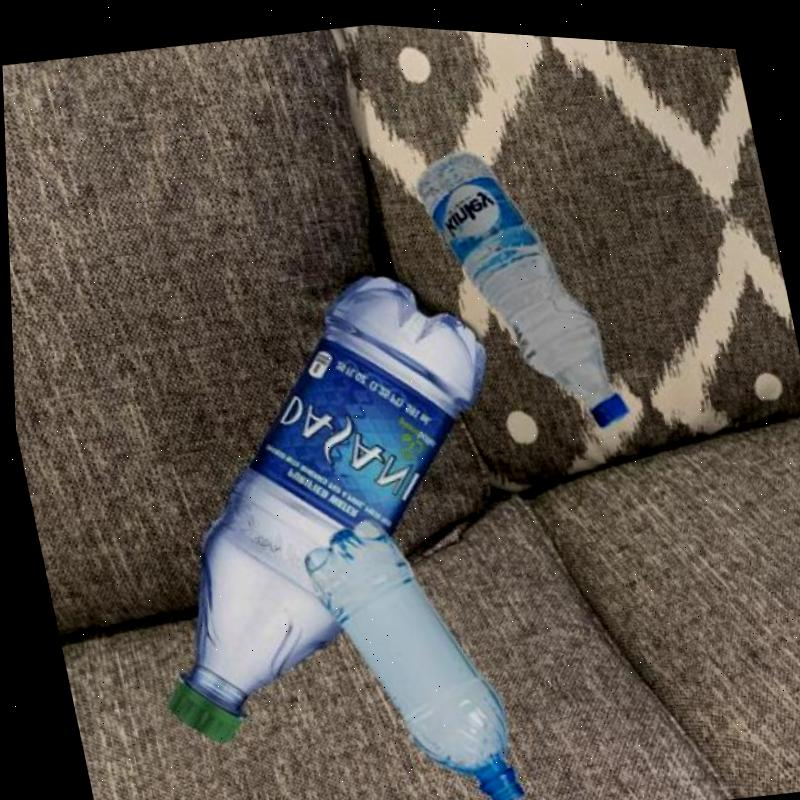botella: (76, 233, 554, 766), (409, 120, 633, 442), (291, 494, 523, 800)
